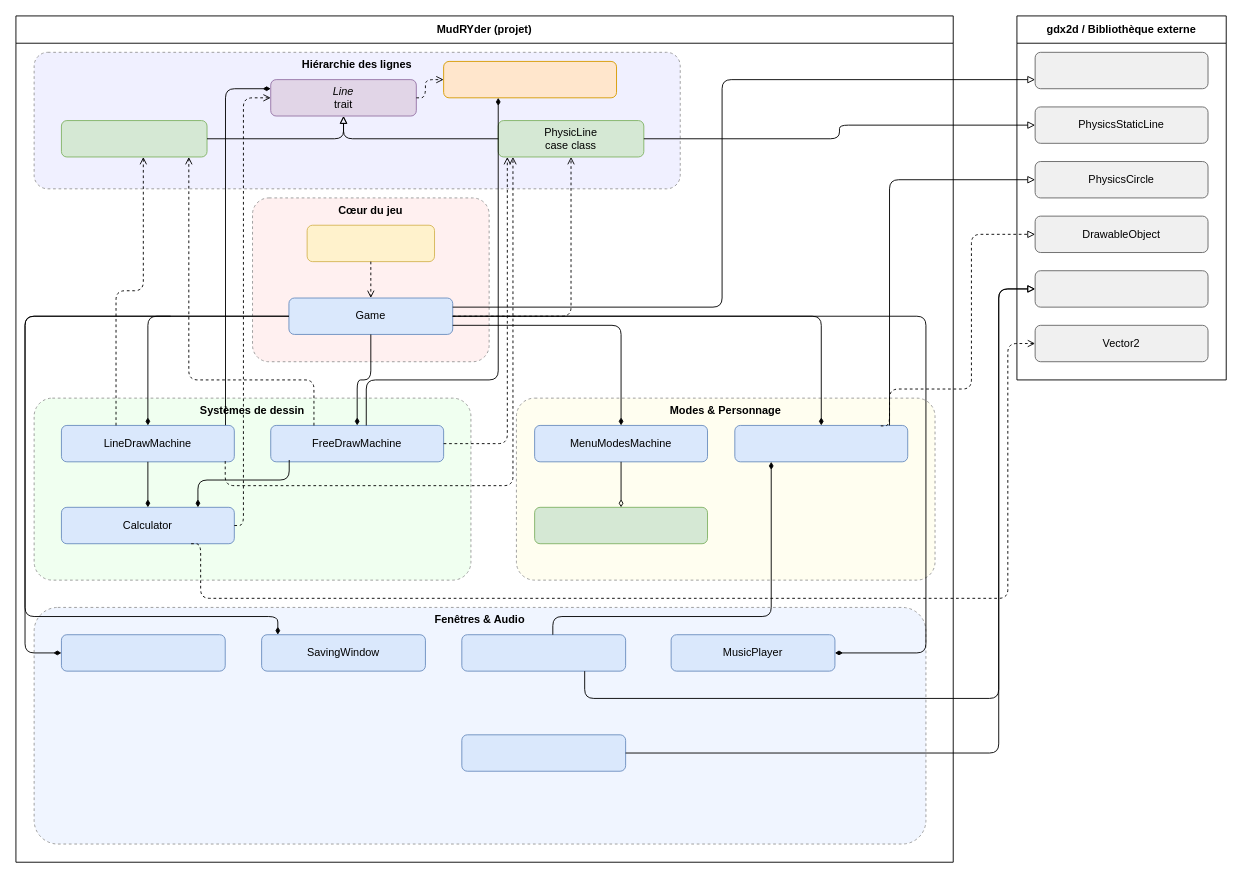
Some shapes in this 1242 by 878 pixel diagram are drawn without their labels. Each missing label, with the centre of its shape:
AreYouSureWindow: the point at 143,652
ArrayBuffer[Line] Free: the point at 530,79
DecoLine case class: the point at 134,138
DesktopApplication: the point at 1121,70
LoadWindow: the point at 543,752
main: the point at 370,243
MenuModes case class: the point at 621,525
MudryMachine: the point at 821,443
RenderingScreen: the point at 1121,288
SplashScreenWindow: the point at 543,652
